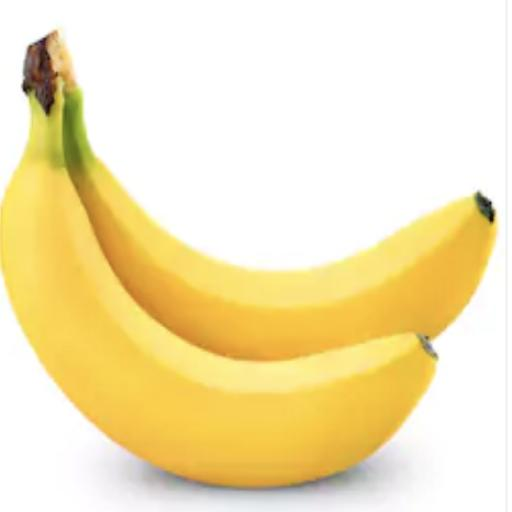banana: (0, 40, 436, 487), (64, 83, 496, 359)
